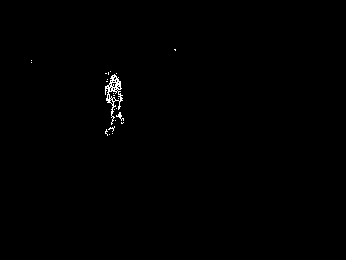person: (99, 66, 127, 140)
